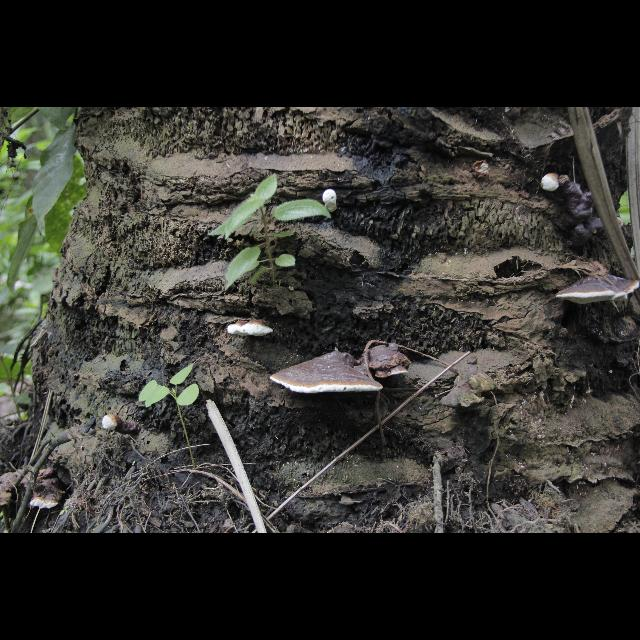ganoderma: (272, 351, 385, 395), (562, 175, 607, 247), (556, 274, 640, 306), (365, 345, 413, 380), (30, 487, 66, 511), (228, 320, 274, 338)
primordium: (323, 189, 339, 213), (542, 174, 560, 193), (103, 416, 121, 433), (617, 219, 623, 230)
